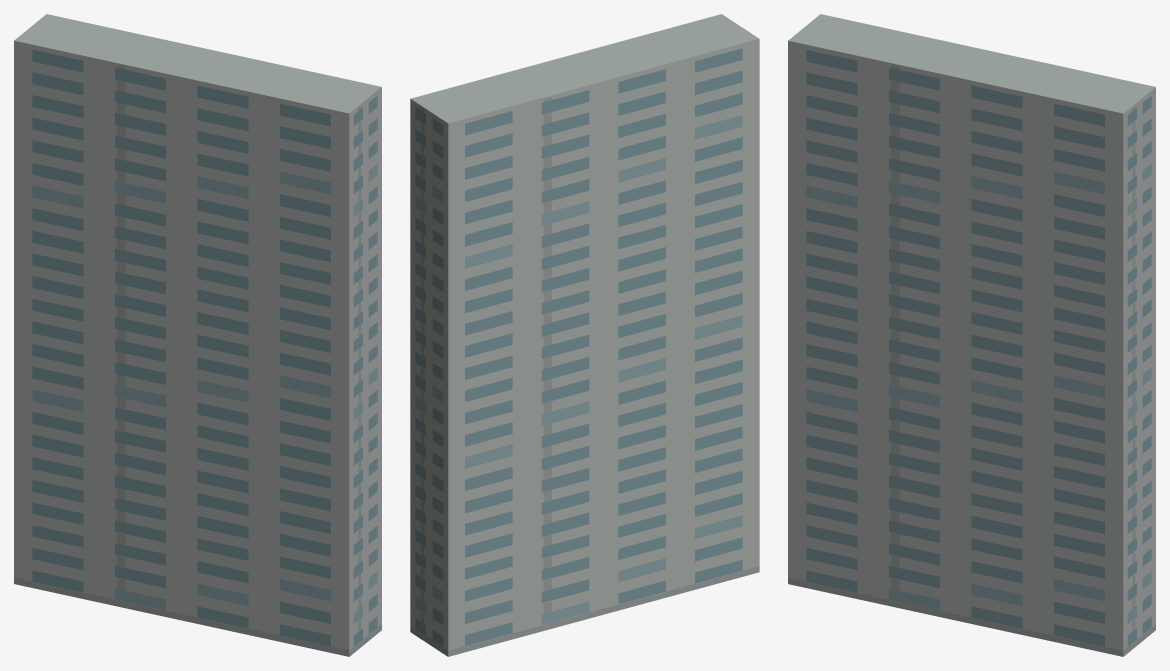
The model's file is residential-3b6592d8-8b08-44a3-95ee-59d8f8b0d76f.glb.
3 renders of one model, left to right at view 1: azimuth 90°, elevation 25°; view 2: azimuth 150°, elevation 25°; view 3: azimuth 270°, elevation 25°, orthographic.
Parts seen in each view (by area): view 1: residential-3b6592d8-8b08-44a3-95ee-59d8f8b0d76f.tmp; view 2: residential-3b6592d8-8b08-44a3-95ee-59d8f8b0d76f.tmp; view 3: residential-3b6592d8-8b08-44a3-95ee-59d8f8b0d76f.tmp.
Part boxes in pixels (x1,y1,x2,y2): residential-3b6592d8-8b08-44a3-95ee-59d8f8b0d76f.tmp: (14,14,381,656); residential-3b6592d8-8b08-44a3-95ee-59d8f8b0d76f.tmp: (410,14,759,656); residential-3b6592d8-8b08-44a3-95ee-59d8f8b0d76f.tmp: (788,14,1155,656).
Bounding box in the file's own units: 28.78 × 73.2 × 44.91.
